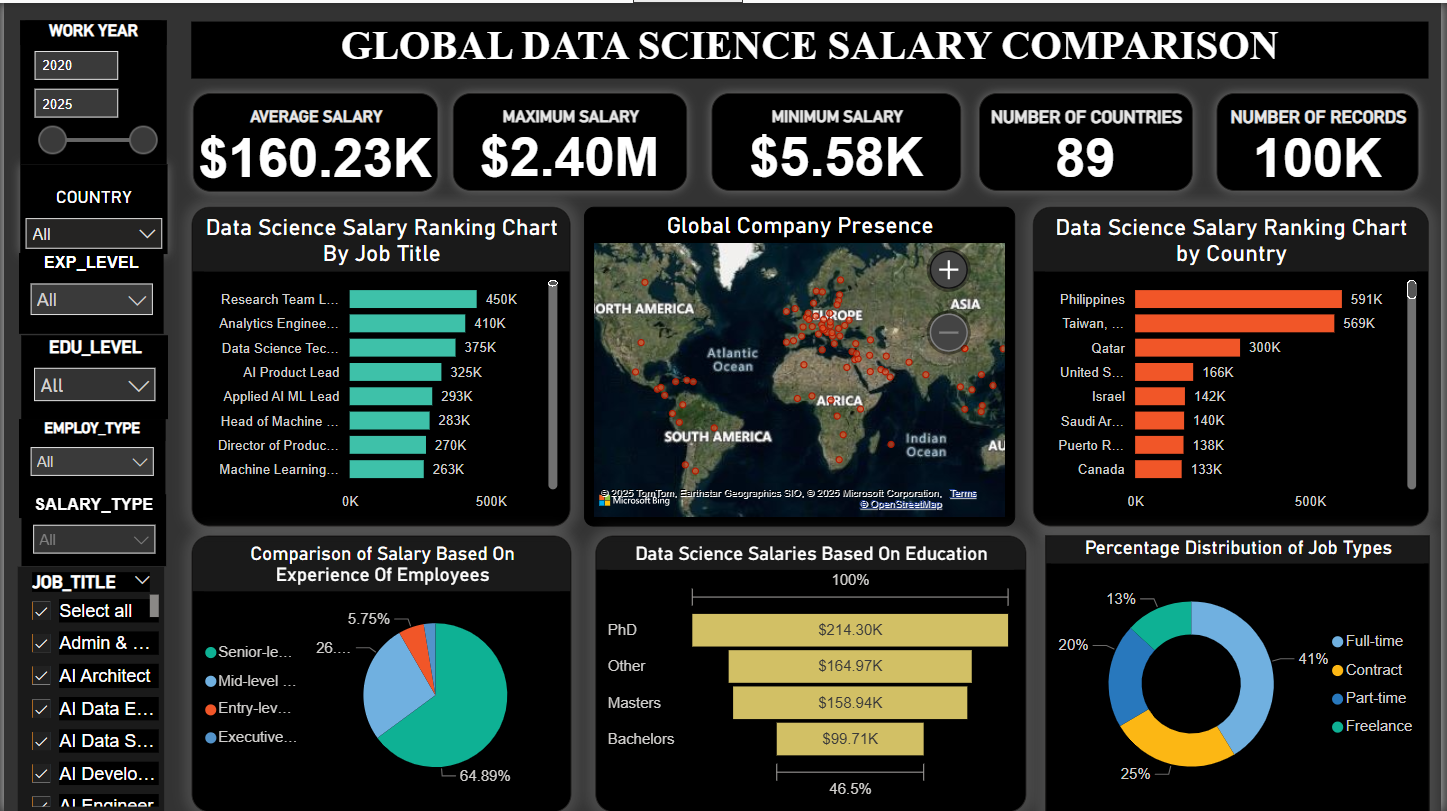

The page's visual inventory and layout, read from the dashboard file:
{"tool":"powerbi","page":{"name":"DATA SCIENCE SALARY ANALYSIS","canvas":[1280,720],"ordinal":0},"visuals":[{"type":"barChart","title":"Data Science Salary Ranking Chart by Country","fields":{"Y":["Avg(salary ds_salaries.salary_in_usd)"],"Category":["salary ds_salaries.company_location_full"]},"box":[916.2,181.2,352.5,285],"z":0},{"type":"slicer","title":"COUNTRY","fields":{"Values":["salary ds_salaries.company_location_full"]},"box":[14.5,143.6,131.5,79.6],"z":1000},{"type":"card","title":"NUMBER OF RECORDS","fields":{"Values":["CountNonNull(salary ds_salaries.job_title)"]},"box":[1080,80,180,87.5],"z":2000},{"type":"barChart","title":"Data Science Salary Ranking Chart By Job Title","fields":{"Category":["salary ds_salaries.job_title"],"Y":["Avg(salary ds_salaries.salary_in_usd)"]},"box":[167.5,181.2,337.5,285],"z":3000},{"type":"slicer","title":"EXP_LEVEL","fields":{"Values":["salary ds_salaries.experience_level"]},"box":[13.3,223.2,129.1,72.4],"z":4000},{"type":"map","title":"Global Company Presence","fields":{"Category":["salary ds_salaries.company_location_full"]},"box":[516.2,181.2,383.8,285],"z":5000},{"type":"slicer","title":"EDU_LEVEL","fields":{"Values":["salary ds_salaries.education_level"]},"box":[15.7,295.6,130.3,74.8],"z":6000},{"type":"slicer","title":"EMPLOY_TYPE","fields":{"Values":["salary ds_salaries.employment_type"]},"box":[13.3,370.4,130.3,88.1],"z":7000},{"type":"slicer","title":"WORK YEAR","fields":{"Values":["salary ds_salaries.work_year"]},"box":[14.5,15.7,130.3,127.9],"z":8000},{"type":"card","title":"AVERAGE SALARY","fields":{"Values":["salary ds_salaries.Average Salary"]},"box":[167.7,79.6,218.4,88.1],"z":9000},{"type":"card","title":"MAXIMUM SALARY","fields":{"Values":["salary ds_salaries.Maximum Salary"]},"box":[400,80,208.8,87.5],"z":10000},{"type":"card","title":"MINIMUM SALARY","fields":{"Values":["salary ds_salaries.Minimum Salary"]},"box":[630,80,222.5,87.5],"z":11000},{"type":"card","title":"NUMBER OF COUNTRIES","fields":{"Values":["Count(salary ds_salaries.company_location_full)"]},"box":[868.8,80,190,87.5],"z":12000},{"type":"shape","title":"GLOBAL DATA SCIENCE SALARY COMPARISON","box":[167.5,16.2,1101.2,50],"z":13000},{"type":"slicer","fields":{"Values":["salary ds_salaries.job_title"]},"box":[12.1,501.9,130.3,218.4],"z":14000},{"type":"donutChart","title":"Percentage Distribution of Job Types","fields":{"Category":["salary ds_salaries.employment_type"],"Y":["Avg(salary ds_salaries.salary_in_usd)"]},"box":[927.8,474.1,342.6,246.1],"z":15000},{"type":"funnel","title":" Data Science Salaries Based On Education ","fields":{"Category":["salary ds_salaries.education_level"],"Y":["Avg(salary ds_salaries.salary_in_usd)"]},"box":[526,474.1,383.6,246.1],"z":16000},{"type":"pieChart","title":"Comparison of Salary Based On Experience Of Employees","fields":{"Category":["salary ds_salaries.experience_level"],"Y":["Sum(salary ds_salaries.salary_in_usd)"]},"box":[167.5,473.8,338.8,246.2],"z":17000},{"type":"slicer","title":"SALARY_TYPE","fields":{"Values":["salary ds_salaries.salary_currency"]},"box":[15.7,437.9,129.1,63.9],"z":18000}]}

Visuals, with their boxes in screenshot pixels (x1, y1, x2, y2), scaled from the page's 1280x720 canvas onto the 1447x811 screenshot:
"Data Science Salary Ranking Chart by Country" barChart: 1036,204,1434,525
"COUNTRY" slicer: 16,162,165,251
"NUMBER OF RECORDS" card: 1221,90,1424,189
"Data Science Salary Ranking Chart By Job Title" barChart: 189,204,571,525
"EXP_LEVEL" slicer: 15,251,161,333
"Global Company Presence" map: 584,204,1017,525
"EDU_LEVEL" slicer: 18,333,165,417
"EMPLOY_TYPE" slicer: 15,417,162,516
"WORK YEAR" slicer: 16,18,164,162
"AVERAGE SALARY" card: 190,90,436,189
"MAXIMUM SALARY" card: 452,90,688,189
"MINIMUM SALARY" card: 712,90,964,189
"NUMBER OF COUNTRIES" card: 982,90,1197,189
"GLOBAL DATA SCIENCE SALARY COMPARISON" shape: 189,18,1434,75
slicer - salary ds_salaries.job_title: 14,565,161,810
"Percentage Distribution of Job Types" donutChart: 1049,534,1436,810
" Data Science Salaries Based On Education " funnel: 595,534,1028,810
"Comparison of Salary Based On Experience Of Employees" pieChart: 189,534,572,810
"SALARY_TYPE" slicer: 18,493,164,565
